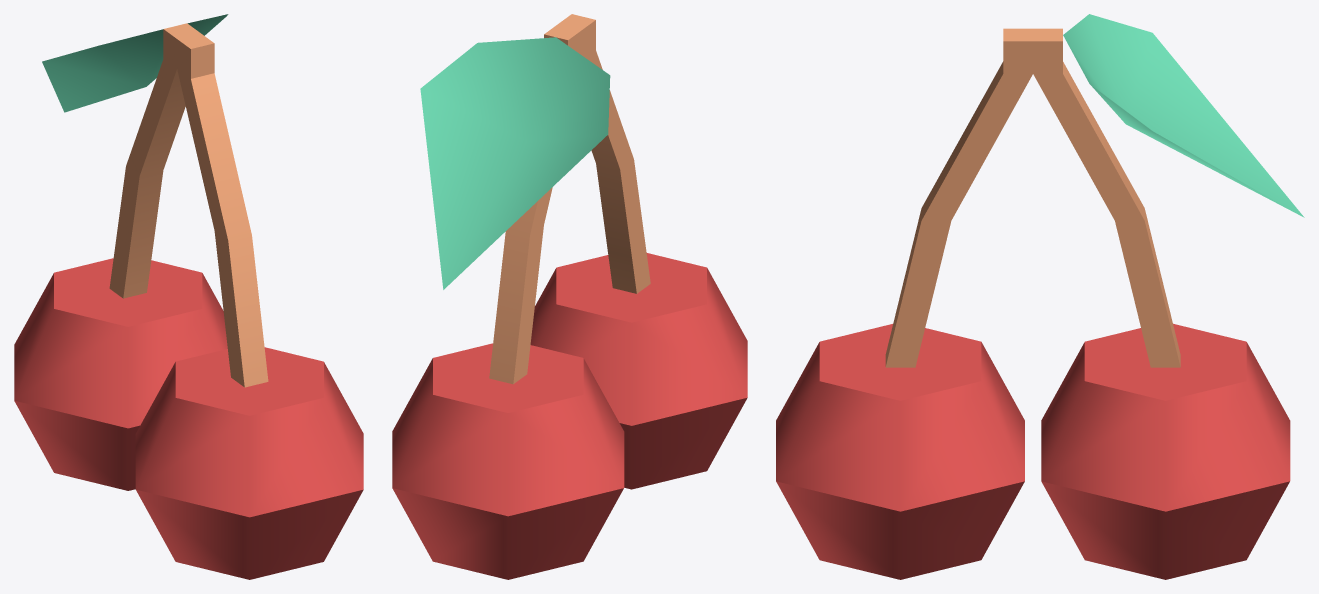
File: cherries.obj
3 views of the same model, side by side, from view 1: azimuth 30°, elevation 25°; view 2: azimuth 150°, elevation 25°; view 3: azimuth 270°, elevation 25° (orthographic). The views are drawn at different scales.
Parts seen in each view (by area): view 1: cherries; view 2: cherries; view 3: cherries.
Boxes of the visible parts, x1=… form: cherries: x1=14, y1=14, x2=363, y2=579; cherries: x1=392, y1=14, x2=747, y2=579; cherries: x1=776, y1=14, x2=1304, y2=579.
Bounding box in the file's own units: 0.088 × 0.1707 × 0.1619.
